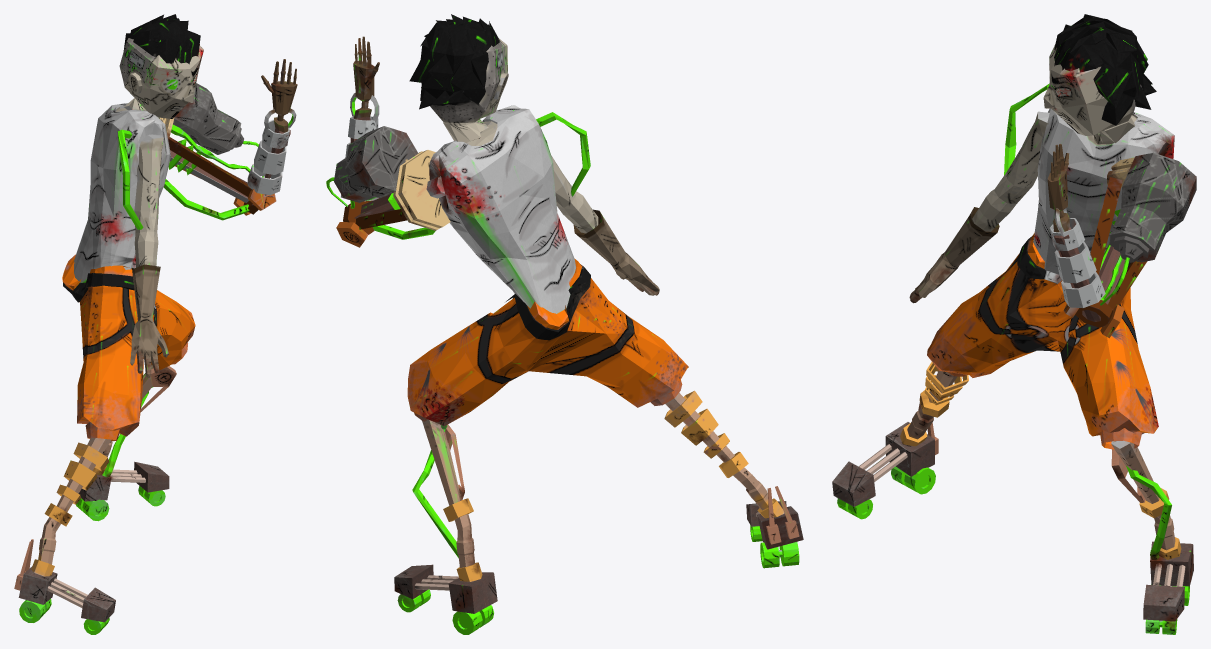
Rendered from CyborgFINALAnimation_000056.obj.
The picture shows the model from 3 angles, left to right: view 1: azimuth 30°, elevation 25°; view 2: azimuth 150°, elevation 25°; view 3: azimuth 270°, elevation 25°; orthographic projection. The views are drawn at different scales.
Parts seen in each view (by area): view 1: CyborgMesh_Cube.002; view 2: CyborgMesh_Cube.002; view 3: CyborgMesh_Cube.002.
Boxes of the visible parts, x1=… form: CyborgMesh_Cube.002: x1=14, y1=14, x2=297, y2=634; CyborgMesh_Cube.002: x1=326, y1=14, x2=803, y2=634; CyborgMesh_Cube.002: x1=832, y1=14, x2=1196, y2=634.
Bounding box in the file's own units: 6.04 × 8.65 × 4.7.
